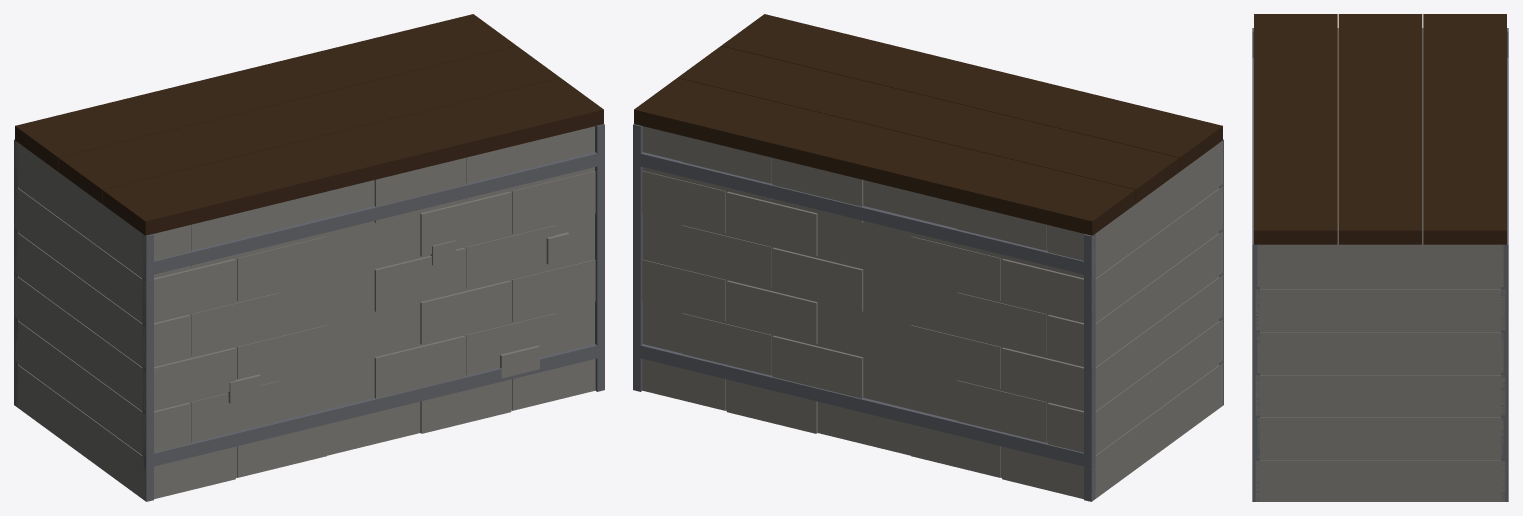
The model's file is SN_Dock_Wall.glb.
The picture shows the model from 3 angles, left to right: view 1: azimuth 30°, elevation 25°; view 2: azimuth 150°, elevation 25°; view 3: azimuth 270°, elevation 25°; orthographic projection. The views are drawn at different scales.
Parts seen in each view (by area): view 1: SN_Dock_Wall; view 2: SN_Dock_Wall; view 3: SN_Dock_Wall.
Part boxes in pixels (box(x1,y1,x2,y2)): SN_Dock_Wall: box(14, 14, 604, 501); SN_Dock_Wall: box(633, 14, 1223, 501); SN_Dock_Wall: box(1252, 14, 1508, 501).
Bounding box in the file's own units: 6 × 3.5 × 3.
